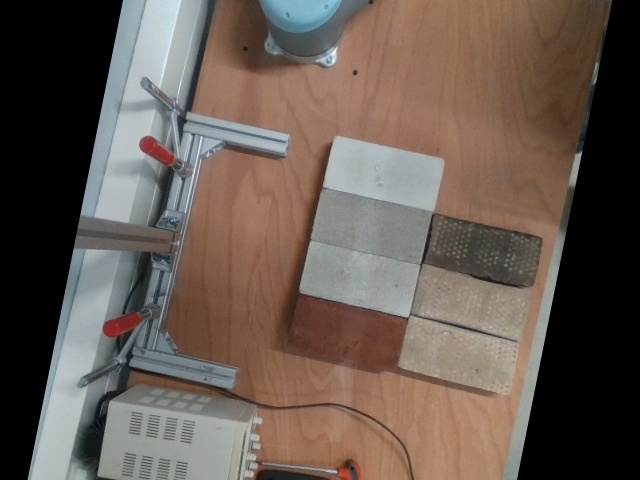brick: (399, 317, 518, 392), (301, 243, 419, 316), (313, 190, 430, 262), (290, 298, 402, 370), (426, 216, 540, 286), (415, 268, 529, 336), (329, 139, 440, 207)
